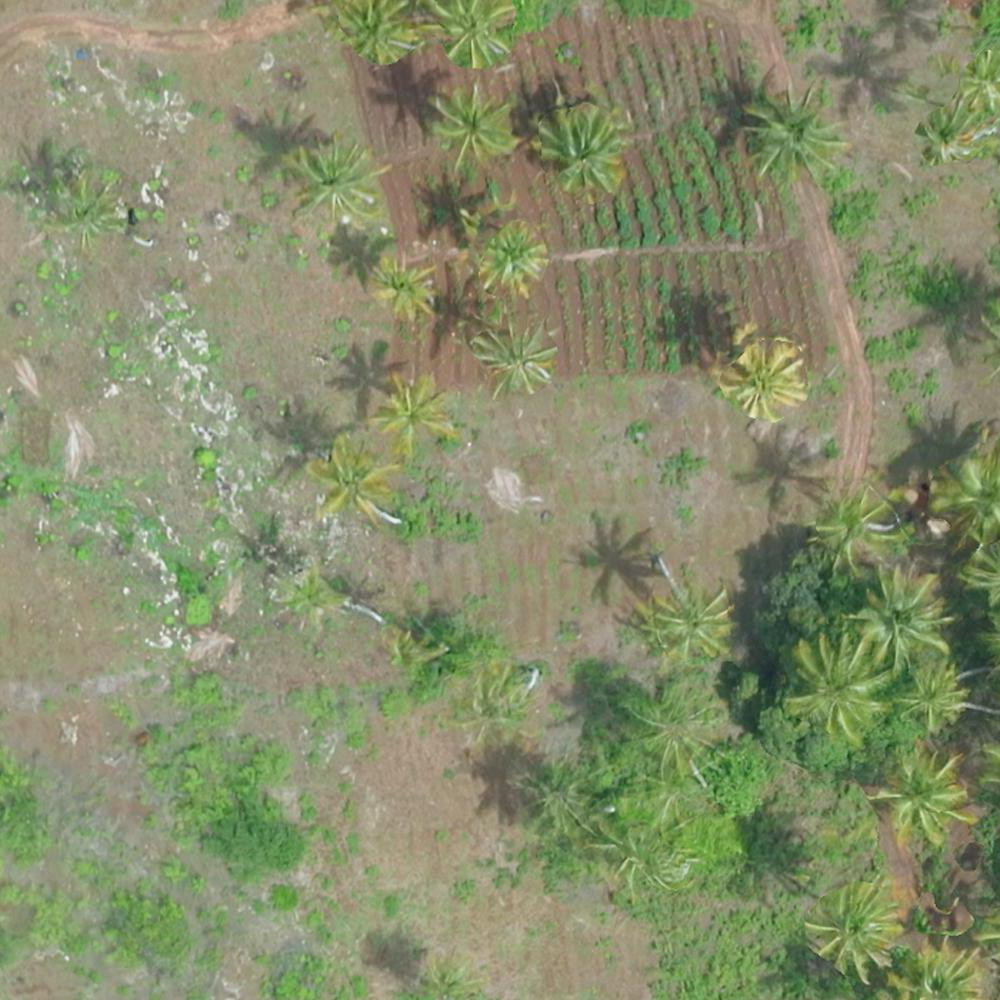Palm: (787, 633, 893, 741), (857, 562, 952, 664), (876, 749, 978, 844), (744, 81, 844, 177), (807, 875, 903, 969), (534, 100, 622, 190), (718, 328, 805, 418), (294, 136, 379, 228), (426, 82, 514, 166), (372, 373, 460, 457), (649, 580, 736, 658), (311, 439, 388, 523), (432, 1, 517, 77), (475, 317, 557, 395), (815, 488, 896, 566), (362, 256, 432, 324), (896, 662, 963, 730), (481, 224, 548, 290)
